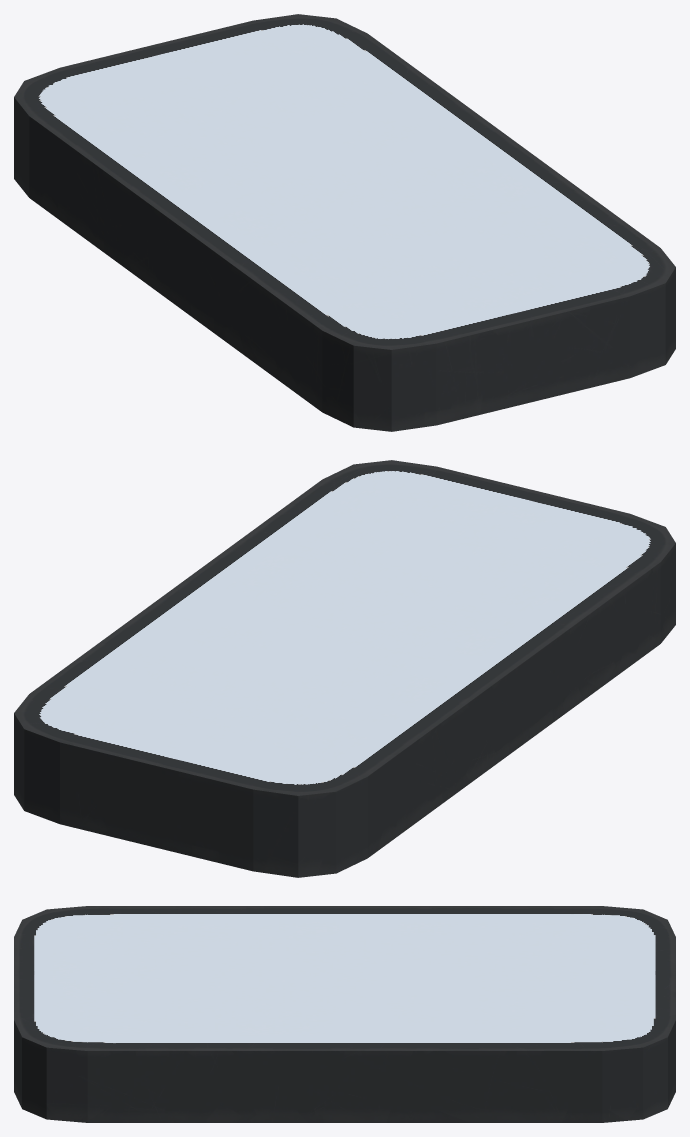
File: P_Phone_001_S1_M04.obj
3 renders of one model, top to bottom at view 1: azimuth 30°, elevation 25°; view 2: azimuth 150°, elevation 25°; view 3: azimuth 270°, elevation 25°, orthographic. The views are drawn at different scales.
Bounding box in the file's own units: 0.14 × 0.0324 × 0.27.
Materials: 1 (1 with a texture image).
